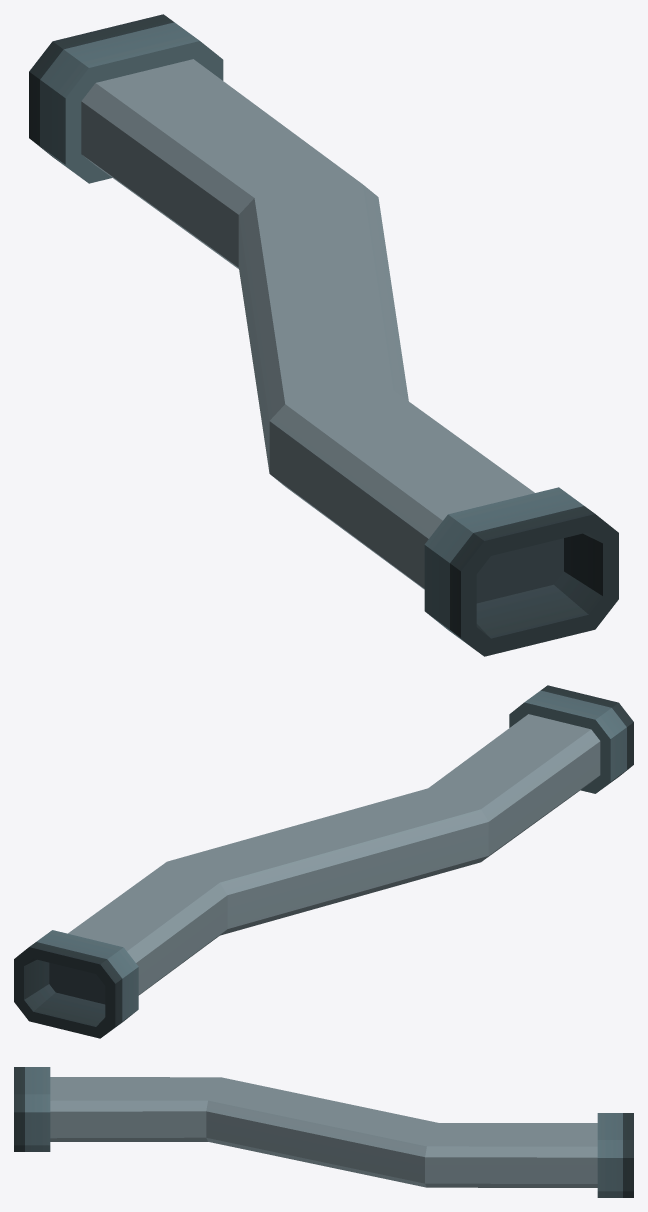
The model's file is Vent_tube_001.fbx.
The picture shows the model from 3 angles, top to bottom: view 1: azimuth 30°, elevation 25°; view 2: azimuth 150°, elevation 25°; view 3: azimuth 270°, elevation 25°; orthographic projection. The views are drawn at different scales.
Visible parts, largest first — view 1: Vent_tube_001; view 2: Vent_tube_001; view 3: Vent_tube_001.
Part boxes in pixels (<box>): Vent_tube_001: <box>29,14,618,656</box>; Vent_tube_001: <box>14,685,633,1038</box>; Vent_tube_001: <box>14,1067,633,1197</box>.
Bounding box in the file's own units: 110 × 340 × 35.
